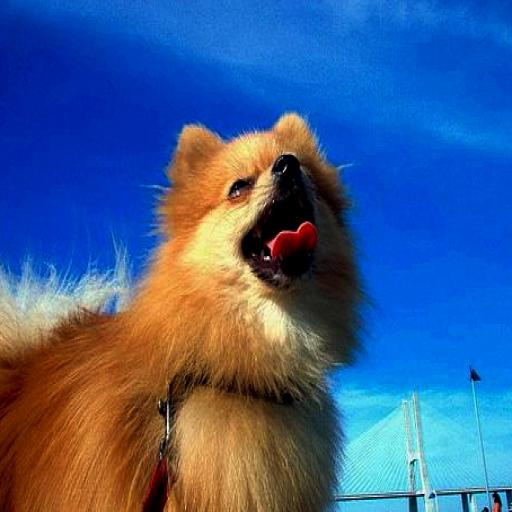dog_face: (183, 116, 344, 310)
